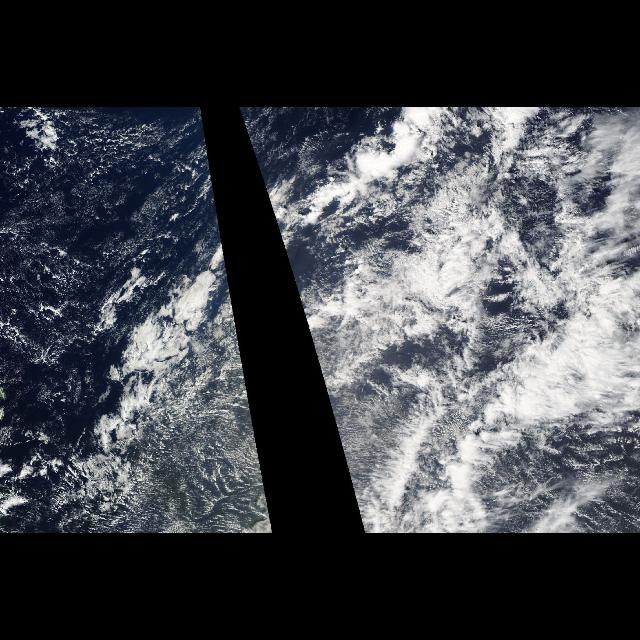Fish: (324, 108, 640, 532)
Gravel: (11, 119, 216, 337)
Sugar: (12, 117, 174, 341), (160, 374, 274, 532), (321, 374, 384, 528)
